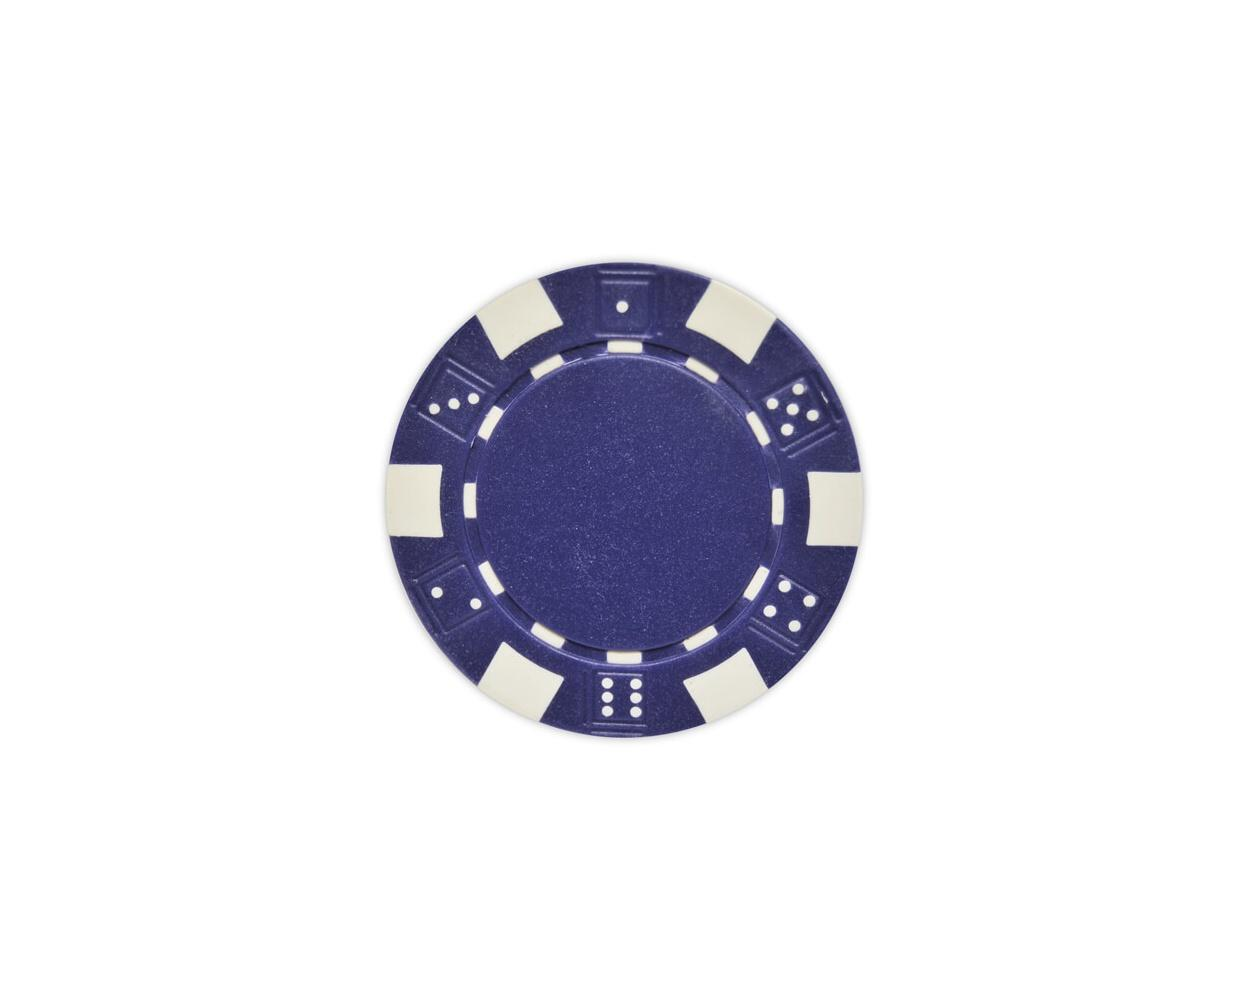chip-blue: (386, 263, 864, 738)
